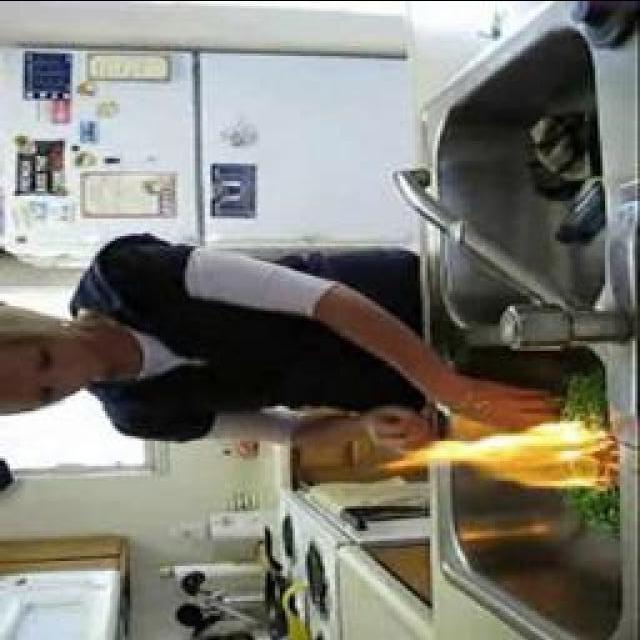Fire: (391, 419, 615, 491)
